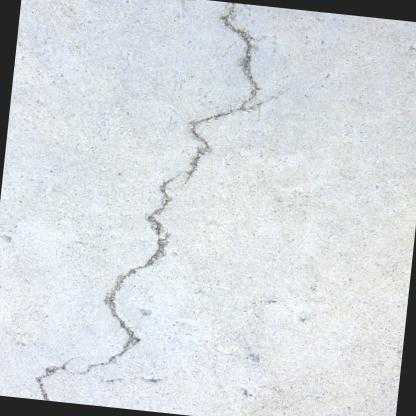crack: (32, 1, 261, 400)
